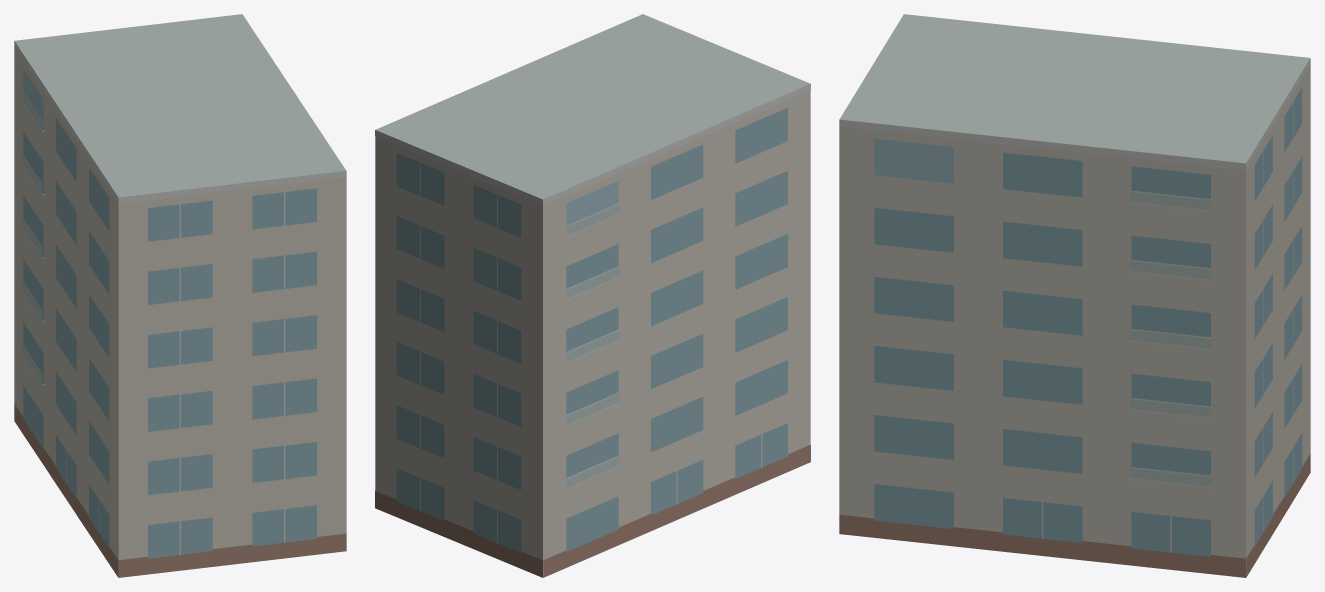
File: survey-upis-32885884.glb
3 renders of one model, left to right at view 1: azimuth 30°, elevation 25°; view 2: azimuth 150°, elevation 25°; view 3: azimuth 270°, elevation 25°, orthographic. The views are drawn at different scales.
Visible parts, largest first — view 1: survey-upis-32885884.tmp; view 2: survey-upis-32885884.tmp; view 3: survey-upis-32885884.tmp.
Part boxes in pixels (x1,y1,x2,y2): survey-upis-32885884.tmp: [14, 14, 346, 577]; survey-upis-32885884.tmp: [375, 14, 810, 577]; survey-upis-32885884.tmp: [839, 14, 1310, 577].
Bounding box in the file's own units: 11.37 × 14.7 × 15.16.
